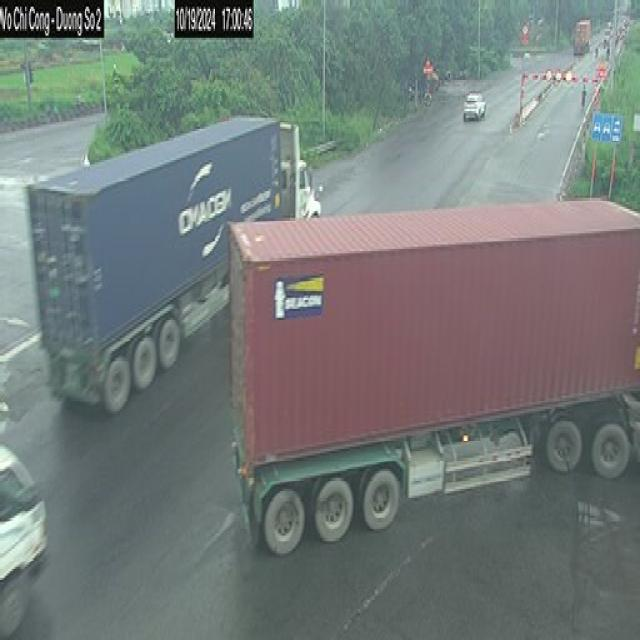car: (459, 88, 490, 126)
container-truck: (228, 193, 640, 572), (26, 92, 327, 433)
truck: (0, 435, 55, 640)
